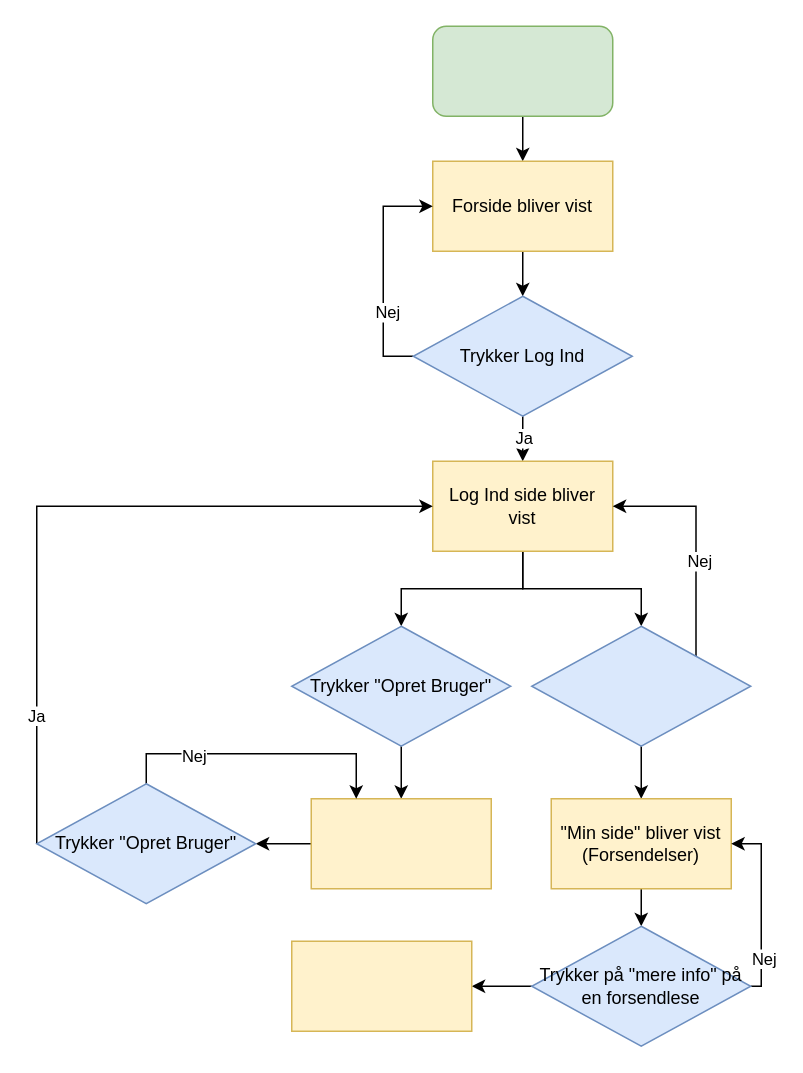
The diagram is 803 pixels wide and 1073 high, and some of its shapes have lost their labels. Here are the shapes that lost their labels. From the top down, the centre of each, then its label:
(522,70): Åbner webappen
(640,685): Trykker "Log Ind"
(400,843): "Opret bruger" Side bliver vist
(381,985): Mere informationer udfoldes omkring forsendelse
